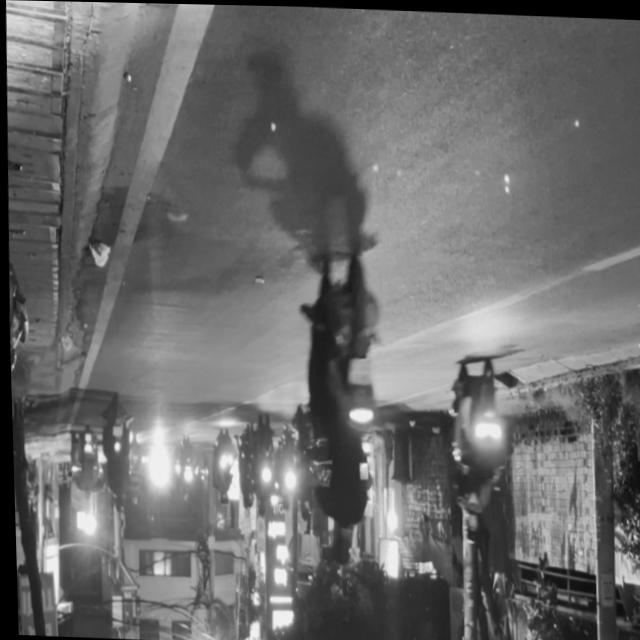helmet: (458, 502, 478, 538)
licenseplate: (292, 249, 387, 572), (436, 351, 508, 540)
motorcyclist: (327, 524, 353, 567)
nohelmet: (346, 358, 372, 384)
